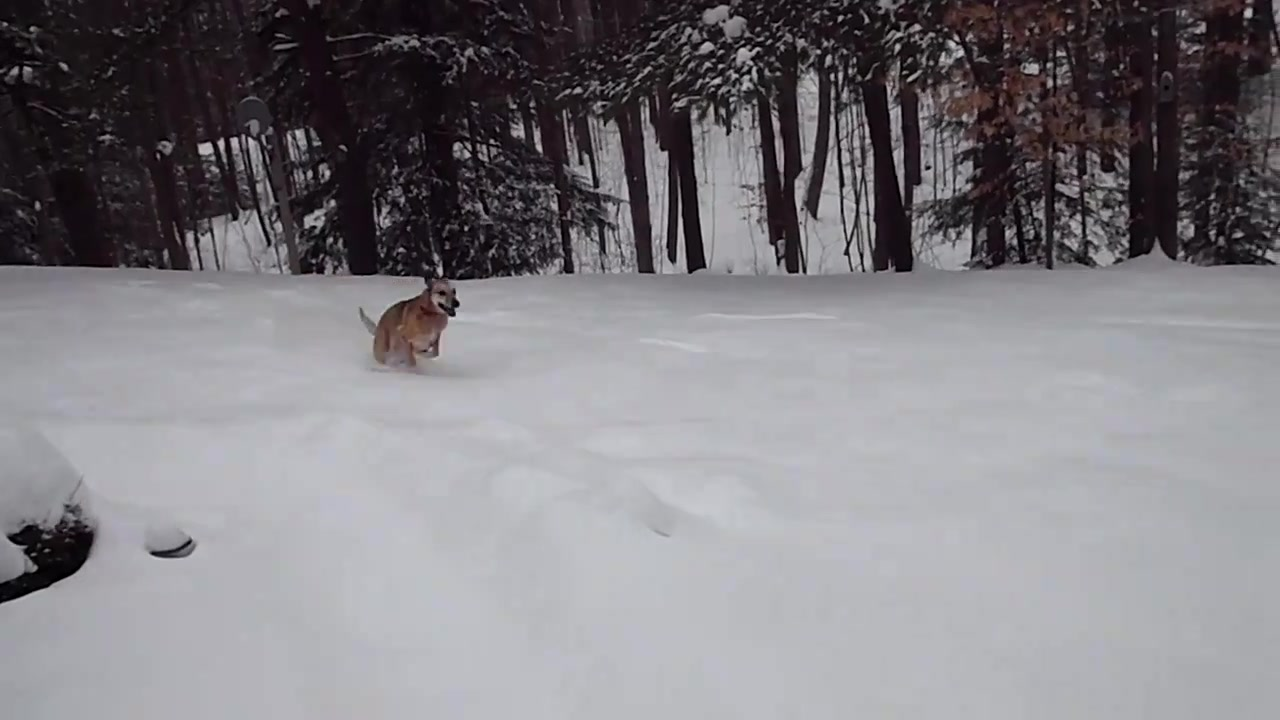dog: (357, 275, 465, 370)
